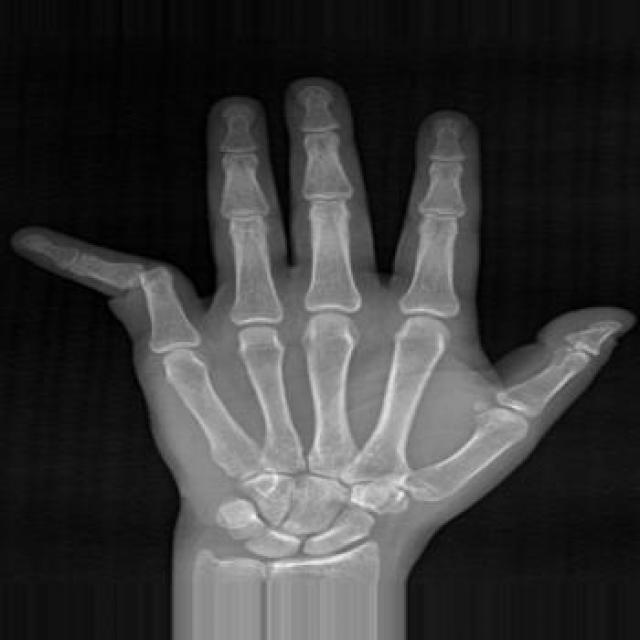Fracture: (117, 259, 170, 297)
